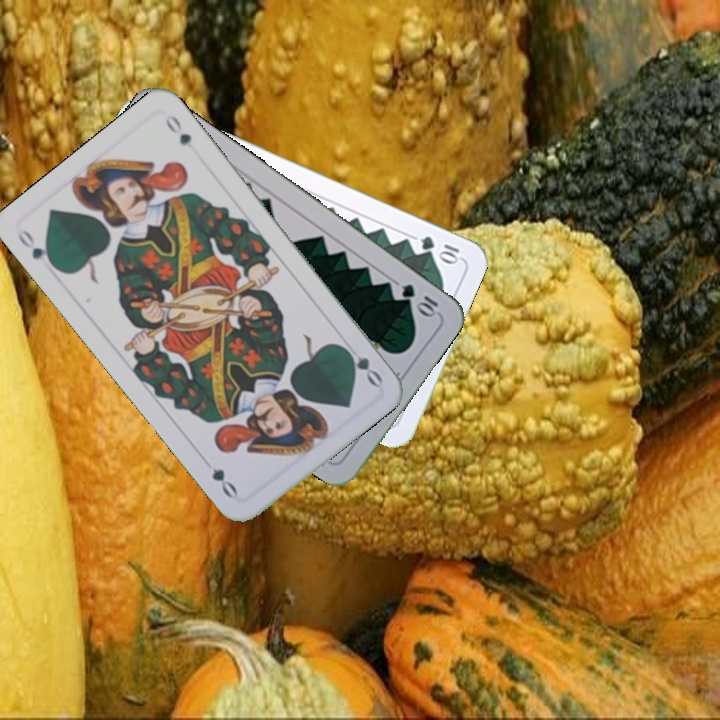G10: (397, 279, 441, 320), (416, 231, 462, 265)
GO: (337, 338, 385, 389), (13, 225, 61, 273)
